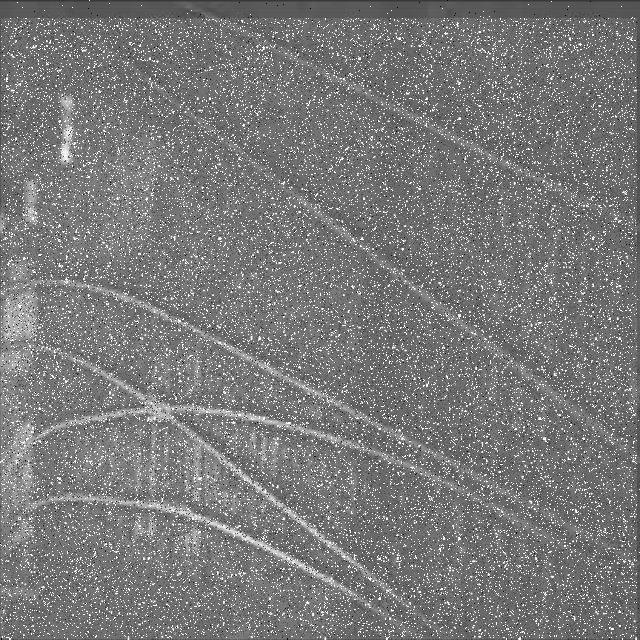rail: (2, 20, 638, 640)
